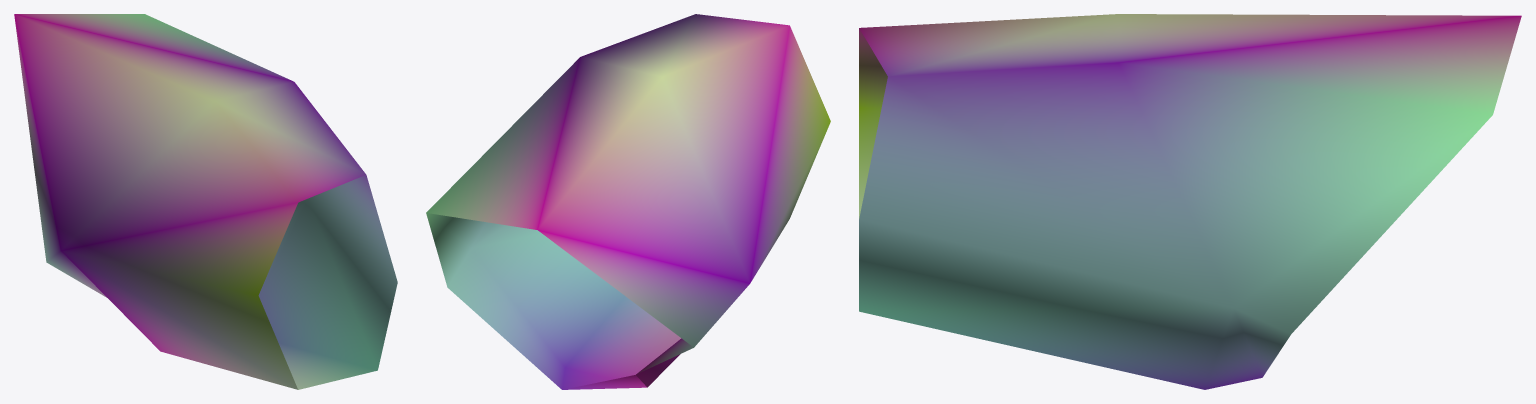
The picture shows the model from 3 angles, left to right: view 1: azimuth 30°, elevation 25°; view 2: azimuth 150°, elevation 25°; view 3: azimuth 270°, elevation 25°; orthographic projection. The views are drawn at different scales.
Visible parts, largest first — view 1: part; view 2: part; view 3: part.
Part boxes in pixels (x1,y1,x2,y2): part: [14, 14, 397, 389]; part: [426, 14, 830, 389]; part: [859, 14, 1521, 389].
Size of the model in its own units: 13 by 13 by 23.
